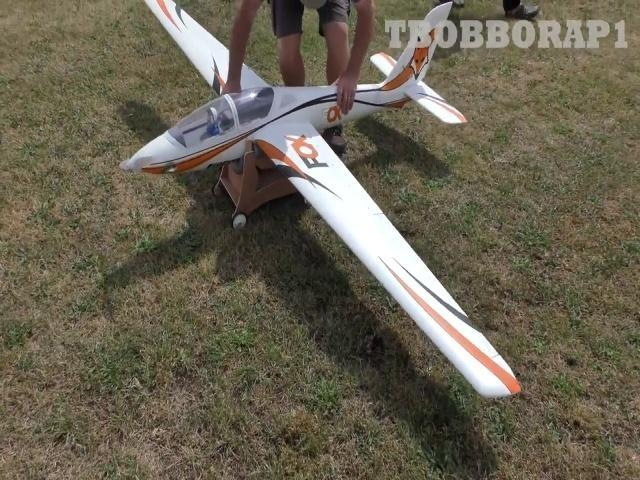Airplane: (118, 1, 521, 398)
